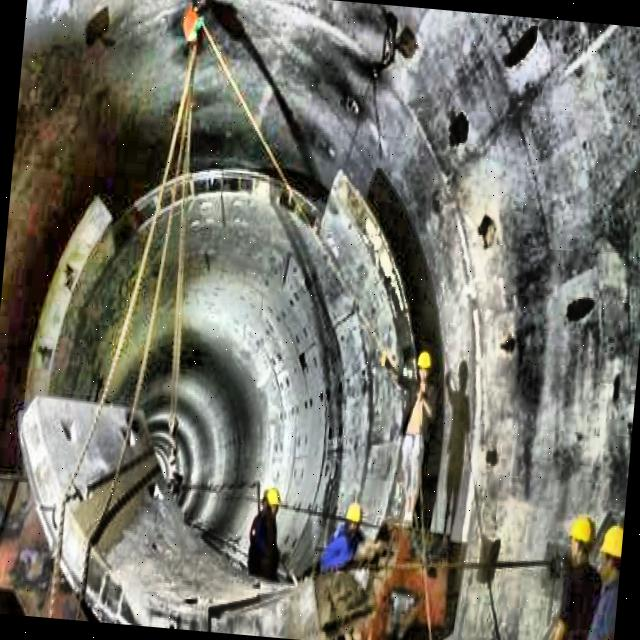helmet: (593, 520, 622, 589), (566, 512, 598, 568), (338, 497, 366, 538), (259, 484, 282, 521), (412, 344, 433, 382)
